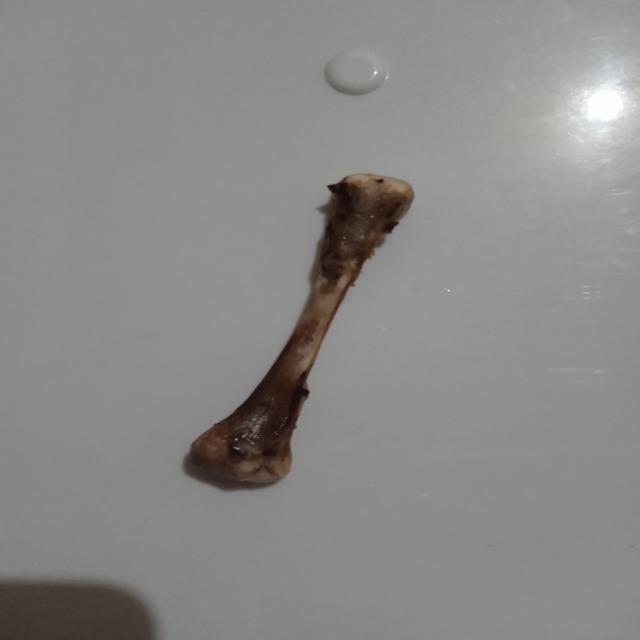bone: (182, 164, 426, 494)
